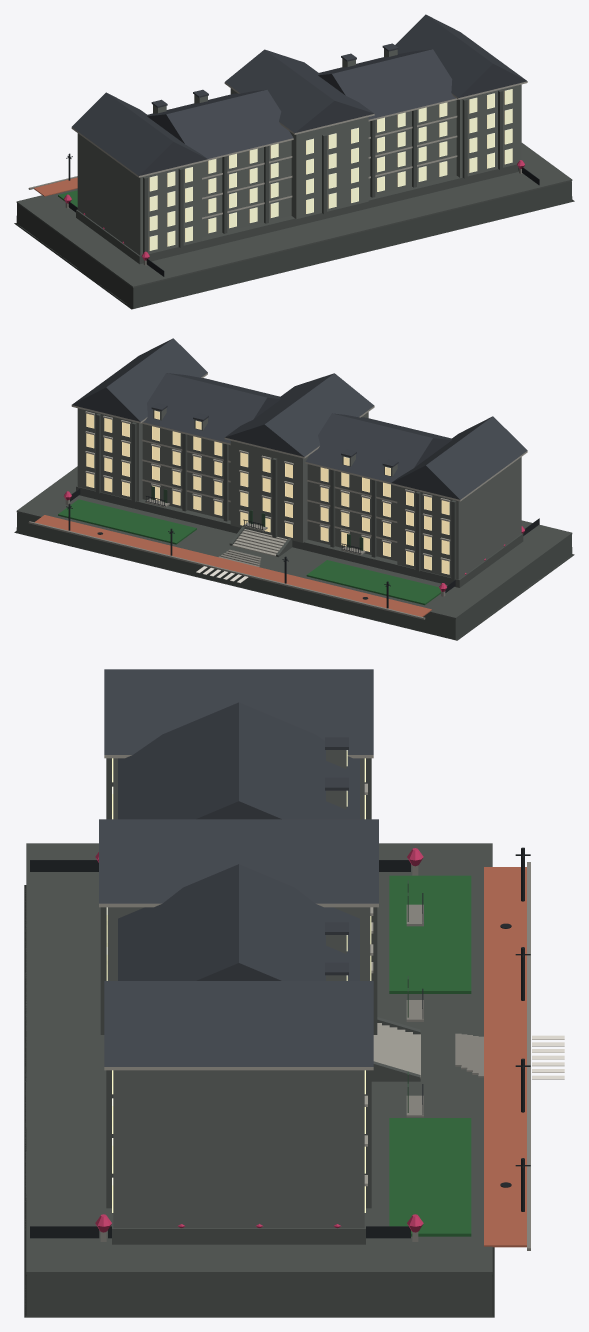
File: lm_18_phan_vien_sinh_hoc.glb
3 renders of one model, top to bottom at view 1: azimuth 30°, elevation 25°; view 2: azimuth 150°, elevation 25°; view 3: azimuth 270°, elevation 25°, orthographic. The views are drawn at different scales.
Visible parts, largest first — view 1: BiologyMuseum_Granite_Walls, Foundation_Plinth_Trim, Foundation_Skirt, BiologyMuseum_Gothic_Windows_Glow, BiologyMuseum_Gothic_Buttresses, BiologyMuseum_Wing_Roof_W, BiologyMuseum_Wing_Roof_E, BiologyMuseum_Central_Keep_Roof, BiologyMuseum_Bastion_Roof_W, BiologyMuseum_Bastion_Roof_E, BiologyMuseum_Limestone_Moldings, Phase2_Interlocking_Brick_Sidewalk (+1 smaller); view 2: BiologyMuseum_Granite_Walls, Foundation_Plinth_Trim, Foundation_Skirt, BiologyMuseum_Gothic_Windows_Glow, BiologyMuseum_Gothic_Buttresses, BiologyMuseum_Central_Keep_Roof, BiologyMuseum_Wing_Roof_W, BiologyMuseum_Wing_Roof_E, BiologyMuseum_Bastion_Roof_W, BiologyMuseum_Forecourt_Lawns, BiologyMuseum_Bastion_Roof_E, Phase2_Interlocking_Brick_Sidewalk (+4 smaller); view 3: Foundation_Plinth_Trim, BiologyMuseum_Granite_Walls, BiologyMuseum_Bastion_Roof_E, Foundation_Skirt, BiologyMuseum_Wing_Roof_W, BiologyMuseum_Wing_Roof_E, BiologyMuseum_Central_Keep_Roof, BiologyMuseum_Forecourt_Lawns, BiologyMuseum_Bastion_Roof_W, Phase2_Interlocking_Brick_Sidewalk, BiologyMuseum_Gothic_Buttresses, Phase2_Granite_Curb_And_Entry_Steps (+7 smaller).
Part boxes in pixels (<box>): BiologyMuseum_Granite_Walls: <box>77,48,521,255</box>; Foundation_Plinth_Trim: <box>16,143,572,287</box>; Foundation_Skirt: <box>14,181,574,309</box>; BiologyMuseum_Gothic_Windows_Glow: <box>149,89,512,250</box>; BiologyMuseum_Gothic_Buttresses: <box>76,90,518,264</box>; BiologyMuseum_Wing_Roof_W: <box>147,89,293,158</box>; BiologyMuseum_Wing_Roof_E: <box>318,49,455,119</box>; BiologyMuseum_Central_Keep_Roof: <box>225,49,374,132</box>; BiologyMuseum_Bastion_Roof_W: <box>72,92,207,175</box>; BiologyMuseum_Bastion_Roof_E: <box>395,14,527,97</box>; BiologyMuseum_Limestone_Moldings: <box>202,116,457,219</box>; Phase2_Interlocking_Brick_Sidewalk: <box>34,177,77,196</box>; BiologyMuseum_Granite_Walls: <box>77,408,521,579</box>; Foundation_Plinth_Trim: <box>16,466,572,619</box>; Foundation_Skirt: <box>14,512,574,640</box>; BiologyMuseum_Gothic_Windows_Glow: <box>86,410,449,574</box>; BiologyMuseum_Gothic_Buttresses: <box>76,413,523,587</box>; BiologyMuseum_Central_Keep_Roof: <box>225,373,374,456</box>; BiologyMuseum_Wing_Roof_W: <box>305,413,451,482</box>; BiologyMuseum_Wing_Roof_E: <box>143,373,280,443</box>; BiologyMuseum_Bastion_Roof_W: <box>391,416,527,499</box>; BiologyMuseum_Forecourt_Lawns: <box>58,499,440,605</box>; BiologyMuseum_Bastion_Roof_E: <box>72,338,207,421</box>; Phase2_Interlocking_Brick_Sidewalk: <box>35,515,431,616</box>; Foundation_Plinth_Trim: <box>26,843,492,1274</box>; BiologyMuseum_Granite_Walls: <box>107,750,370,1227</box>; BiologyMuseum_Bastion_Roof_E: <box>104,981,373,1066</box>; Foundation_Skirt: <box>24,885,494,1317</box>; BiologyMuseum_Wing_Roof_W: <box>118,702,359,819</box>; BiologyMuseum_Wing_Roof_E: <box>118,864,359,980</box>; BiologyMuseum_Central_Keep_Roof: <box>99,819,378,903</box>; BiologyMuseum_Forecourt_Lawns: <box>389,875,471,1236</box>; BiologyMuseum_Bastion_Roof_W: <box>104,669,373,754</box>; Phase2_Interlocking_Brick_Sidewalk: <box>484,867,526,1247</box>; BiologyMuseum_Gothic_Buttresses: <box>100,758,377,1244</box>; Phase2_Granite_Curb_And_Entry_Steps: <box>100,862,530,1250</box>.
Bounding box in the file's own units: 74.91 × 22.78 × 39.54.
